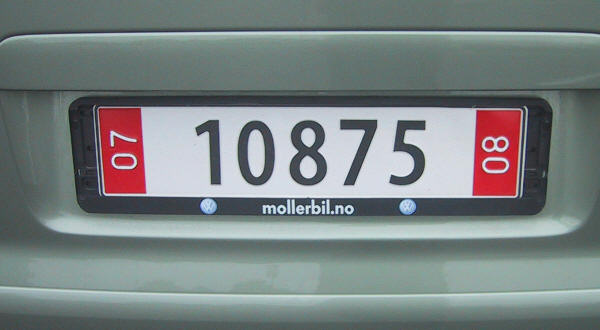license_plate: (94, 105, 528, 199)
